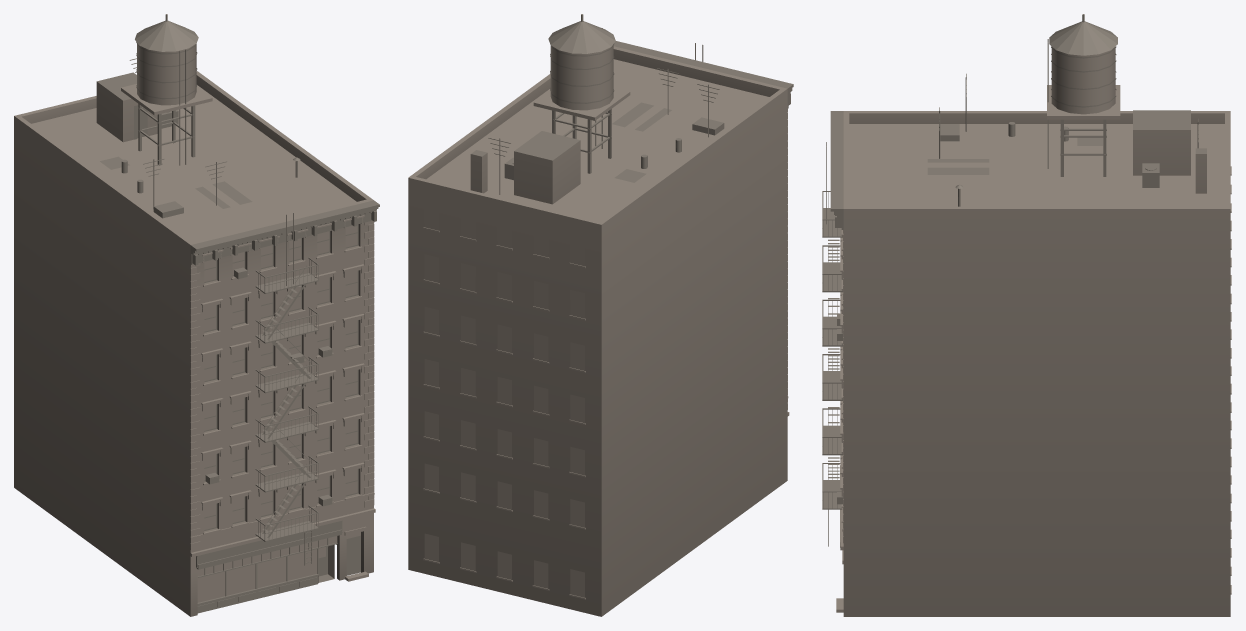
Rendered from tenement_g.glb.
The picture shows the model from 3 angles, left to right: view 1: azimuth 30°, elevation 25°; view 2: azimuth 150°, elevation 25°; view 3: azimuth 270°, elevation 25°; orthographic projection. The views are drawn at different scales.
Parts seen in each view (by area): view 1: tenement_g; view 2: tenement_g; view 3: tenement_g.
Part boxes in pixels (bbox=[...]): tenement_g: bbox=[14, 14, 379, 616]; tenement_g: bbox=[408, 14, 793, 616]; tenement_g: bbox=[822, 14, 1231, 616].
Bounding box in the file's own units: 12 × 31.35 × 21.15.
